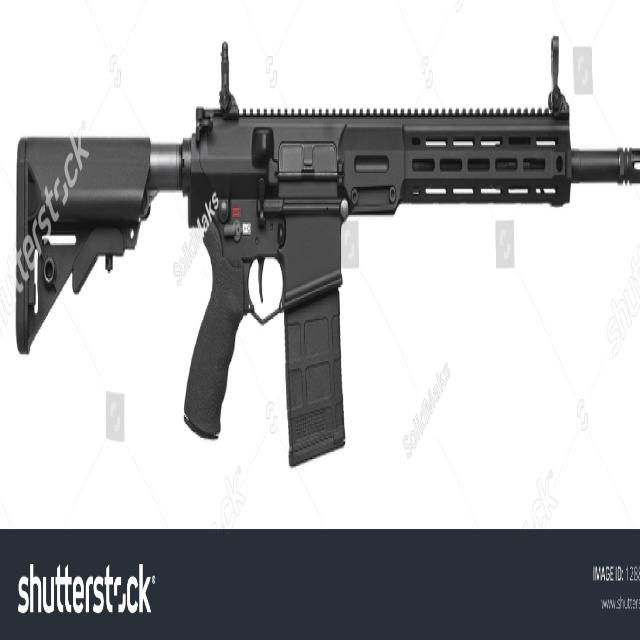Weapon: (16, 36, 640, 465)
